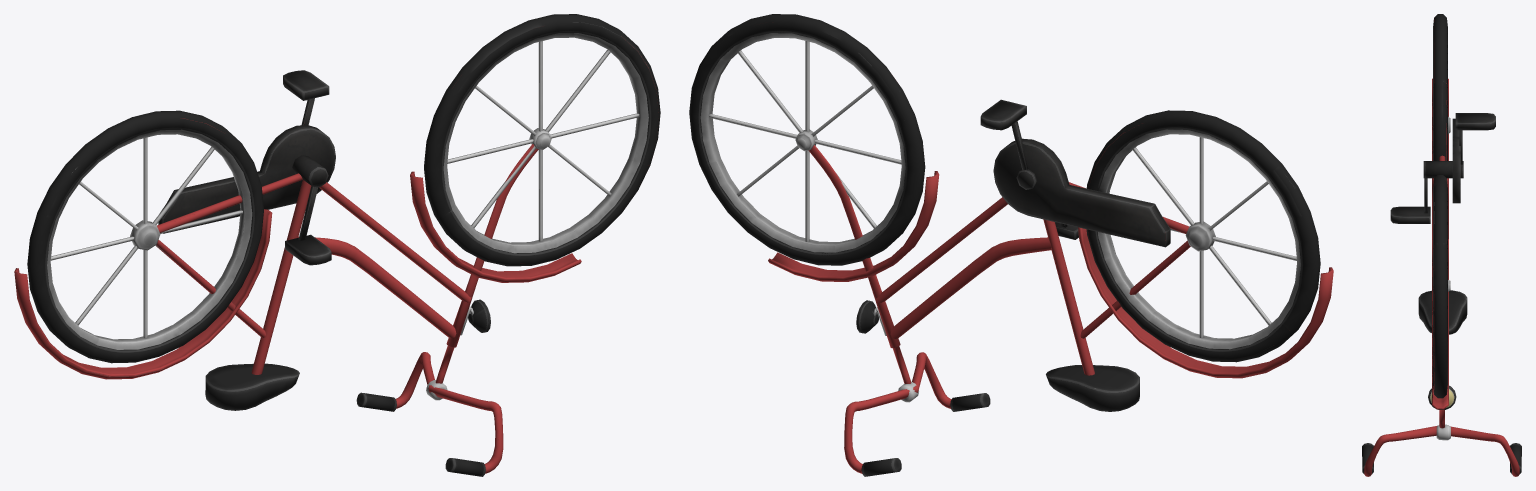
The model's file is anime-bicycle.glb.
3 renders of one model, left to right at view 1: azimuth 30°, elevation 25°; view 2: azimuth 150°, elevation 25°; view 3: azimuth 270°, elevation 25°, orthographic. The views are drawn at different scales.
Parts seen in each view (by area): view 1: anime-bicycle; view 2: anime-bicycle; view 3: anime-bicycle.
Part boxes in pixels (box(x1,y1,x2,y2)): anime-bicycle: box(14, 14, 660, 476); anime-bicycle: box(689, 14, 1333, 476); anime-bicycle: box(1362, 14, 1521, 476).
Size of the model in its own units: 2.32 by 1.38 by 0.6011.
1 material, 1 textured.
